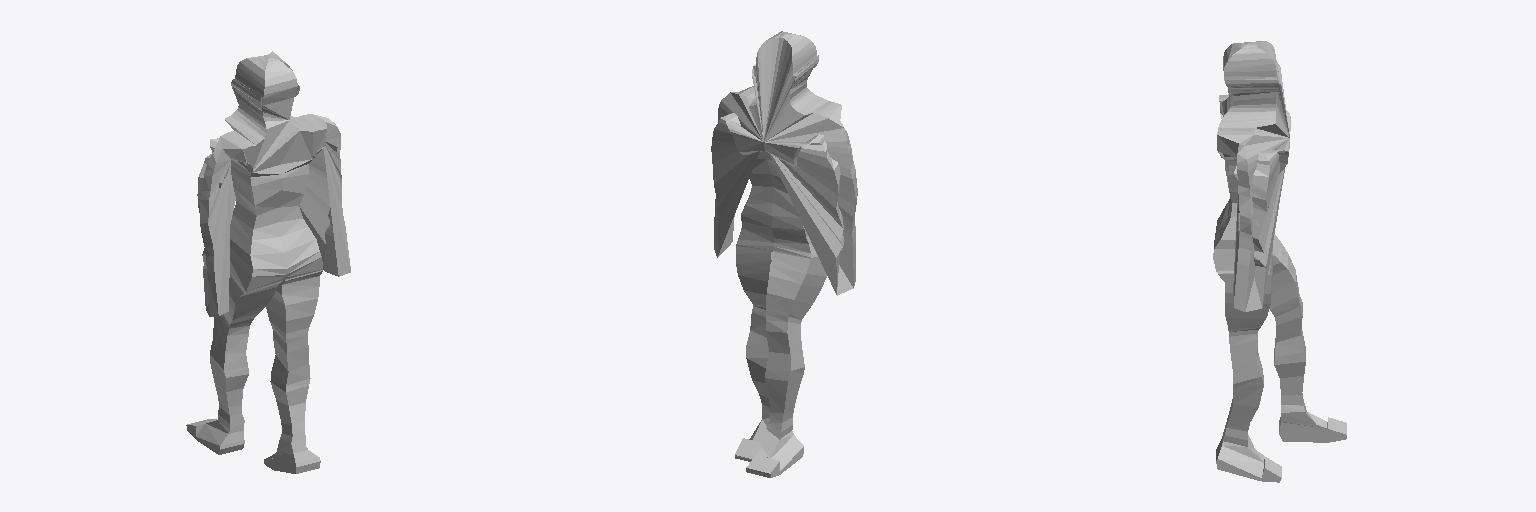
File: woman_000037.obj
3 renders of one model, left to right at view 1: azimuth 30°, elevation 25°; view 2: azimuth 150°, elevation 25°; view 3: azimuth 270°, elevation 25°, orthographic.
Parts seen in each view (by area): view 1: Cube_Cube.001; view 2: Cube_Cube.001; view 3: Cube_Cube.001.
Part boxes in pixels (left/top/right/bottom): Cube_Cube.001: left=186, top=51, right=350, bottom=473; Cube_Cube.001: left=711, top=31, right=857, bottom=477; Cube_Cube.001: left=1213, top=41, right=1346, bottom=482.
Bounding box in the file's own units: 3.62 × 10.14 × 2.93.